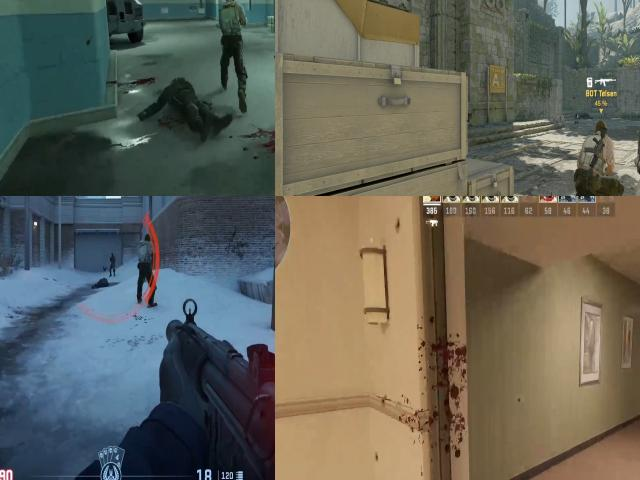CT: (109, 253, 117, 276)
CT-Head: (111, 252, 117, 259)
Dead: (142, 70, 219, 131), (89, 277, 110, 294), (572, 108, 592, 125)
T: (575, 117, 618, 196), (213, 0, 250, 48), (137, 232, 155, 266)
T-Head: (591, 119, 609, 144), (142, 231, 152, 246), (221, 0, 237, 8)
